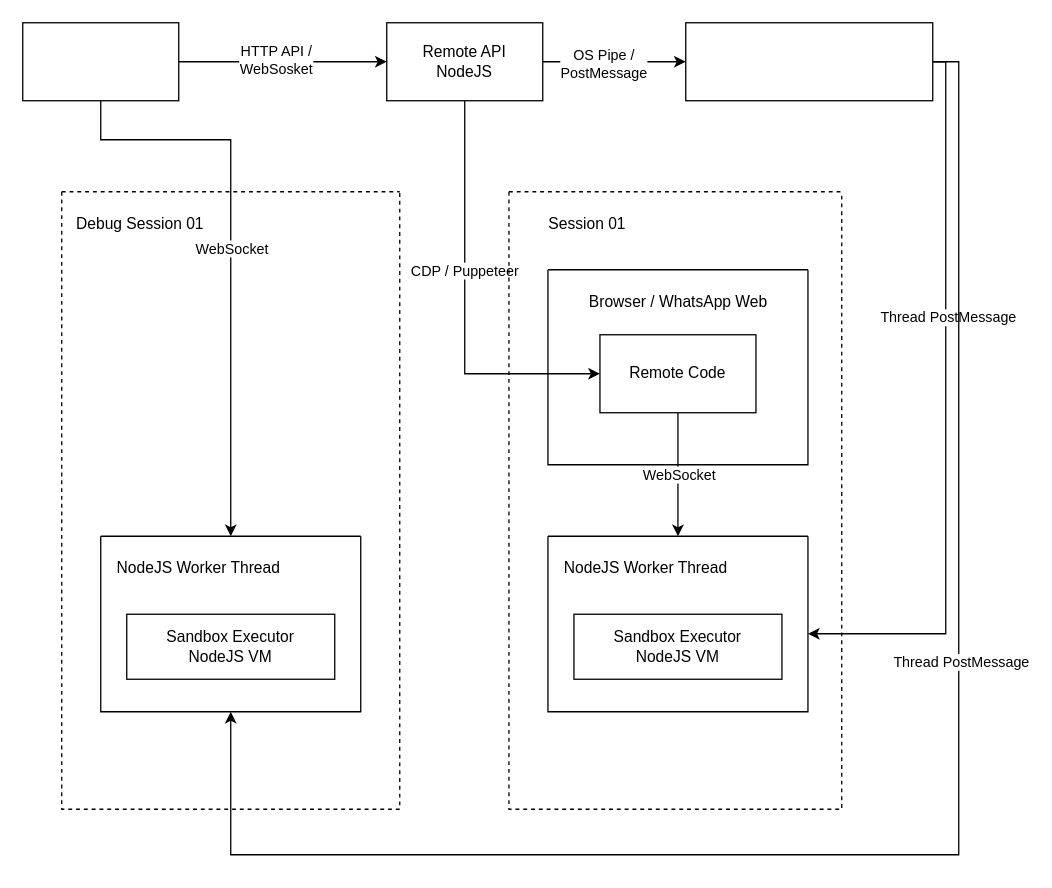
Image size: 1052x888. Some labels were removed from this diagram. The shapes that lost their labels are listed below. From the top down, each one's centre as x and y in pixels, then its label:
At point (100, 61): "User Panel / Dashboard VueJS".
At point (808, 61): "Remote API NodeJS Child Process".
